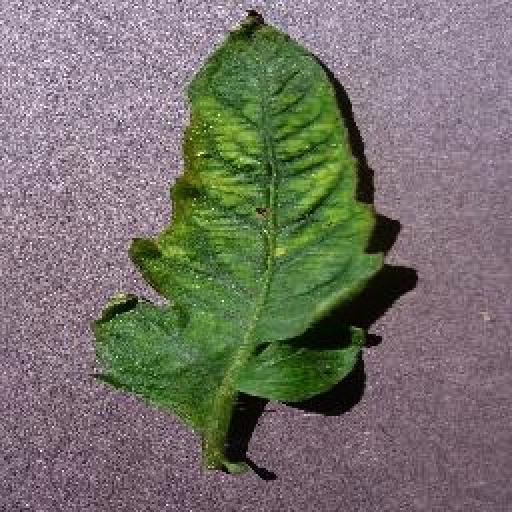Mosaic Virus: (86, 8, 388, 432)
